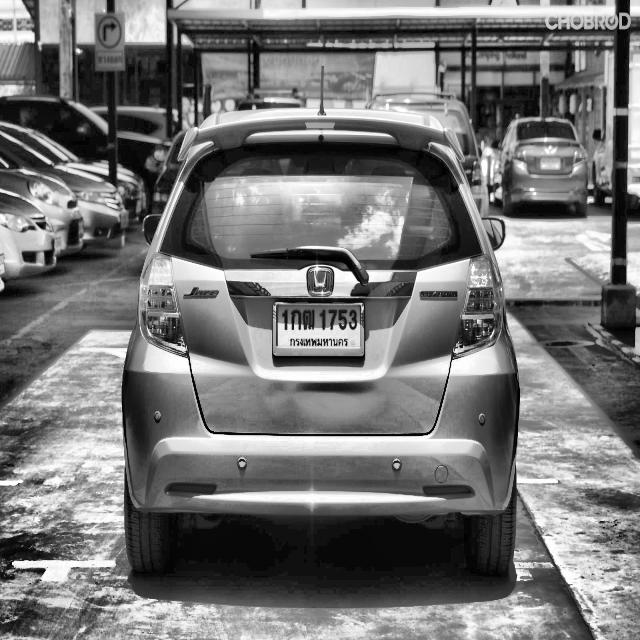license-plate: (267, 289, 369, 372)
